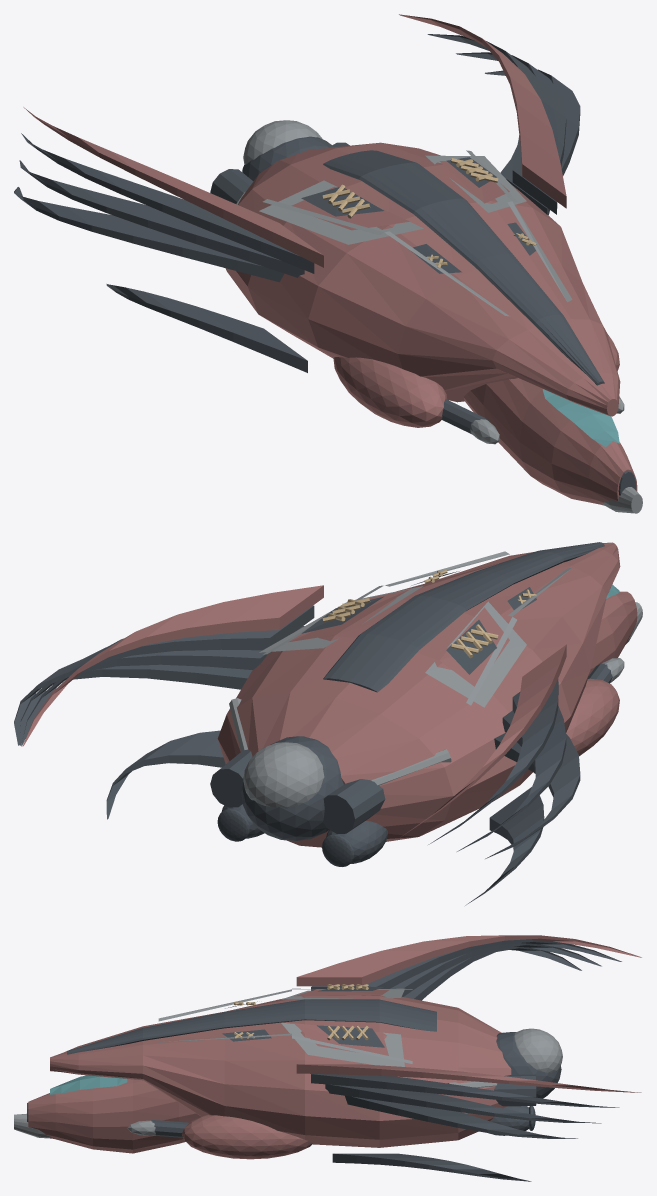
The model's file is thrill_red_off.glb.
3 views of the same model, one above another, from view 1: azimuth 30°, elevation 25°; view 2: azimuth 150°, elevation 25°; view 3: azimuth 270°, elevation 25° (orthographic). The views are drawn at different scales.
Visible parts, largest first — view 1: hull_0, hull_1, hull_2, wing_R_pivot_blade0, wing_L_pivot_blade0, wing_L_pivot_blade2, wing_L_pivot_blade1, wing_L_pivot_blade3, fin_L_pivot_blade1, wing_R_pivot_blade1, hull_3, wing_R_pivot_blade2 (+2 smaller); view 2: hull_0, hull_1, hull_2, wing_R_pivot_blade0, wing_R_pivot_blade1, wing_R_pivot_blade3, wing_L_pivot_blade0, wing_R_pivot_blade2, fin_R_pivot_blade1, fin_L_pivot_blade1, wing_L_pivot_blade1, wing_L_pivot_blade2 (+2 smaller); view 3: hull_0, hull_1, hull_2, wing_L_pivot_blade0, wing_R_pivot_blade1, wing_R_pivot_blade0, wing_R_pivot_blade2, wing_R_pivot_blade3, fin_R_pivot_blade1, wing_L_pivot_blade1, wing_L_pivot_blade2, wing_L_pivot_blade3 (+2 smaller).
Part boxes in pixels (x1=…): hull_0: x1=225, y1=142, x2=637, y2=505; hull_1: x1=210, y1=136, x2=636, y2=495; hull_2: x1=236, y1=120, x2=642, y2=513; wing_R_pivot_blade0: x1=399, y1=14, x2=566, y2=208; wing_L_pivot_blade0: x1=23, y1=107, x2=323, y2=267; wing_L_pivot_blade2: x1=19, y1=160, x2=304, y2=277; wing_L_pivot_blade1: x1=21, y1=133, x2=314, y2=273; wing_L_pivot_blade3: x1=14, y1=187, x2=284, y2=282; fin_L_pivot_blade1: x1=106, y1=284, x2=307, y2=372; wing_R_pivot_blade1: x1=427, y1=34, x2=558, y2=214; hull_3: x1=542, y1=389, x2=619, y2=447; wing_R_pivot_blade2: x1=456, y1=52, x2=566, y2=214; hull_0: x1=217, y1=542, x2=637, y2=847; hull_1: x1=210, y1=542, x2=612, y2=866; hull_2: x1=229, y1=551, x2=642, y2=808; wing_R_pivot_blade0: x1=22, y1=585, x2=323, y2=746; wing_R_pivot_blade1: x1=21, y1=605, x2=314, y2=746; wing_R_pivot_blade3: x1=14, y1=660, x2=252, y2=745; wing_L_pivot_blade0: x1=400, y1=644, x2=566, y2=837; wing_R_pivot_blade2: x1=19, y1=626, x2=304, y2=745; fin_R_pivot_blade1: x1=106, y1=730, x2=225, y2=819; fin_L_pivot_blade1: x1=465, y1=787, x2=544, y2=905; wing_L_pivot_blade1: x1=428, y1=679, x2=558, y2=844; wing_L_pivot_blade2: x1=457, y1=706, x2=566, y2=851; hull_0: x1=28, y1=989, x2=511, y2=1159; hull_1: x1=27, y1=986, x2=561, y2=1137; hull_2: x1=14, y1=988, x2=562, y2=1138; wing_L_pivot_blade0: x1=296, y1=935, x2=641, y2=986; wing_R_pivot_blade1: x1=311, y1=1074, x2=619, y2=1107; wing_R_pivot_blade0: x1=296, y1=1064, x2=641, y2=1092; wing_R_pivot_blade2: x1=325, y1=1084, x2=601, y2=1123; wing_R_pivot_blade3: x1=345, y1=1095, x2=577, y2=1138; fin_R_pivot_blade1: x1=332, y1=1153, x2=531, y2=1181; wing_L_pivot_blade1: x1=311, y1=939, x2=621, y2=990; wing_L_pivot_blade2: x1=390, y1=943, x2=601, y2=996; wing_L_pivot_blade3: x1=404, y1=946, x2=581, y2=1000.
Bounding box in the file's own units: 3.07 × 1.12 × 4.39.
